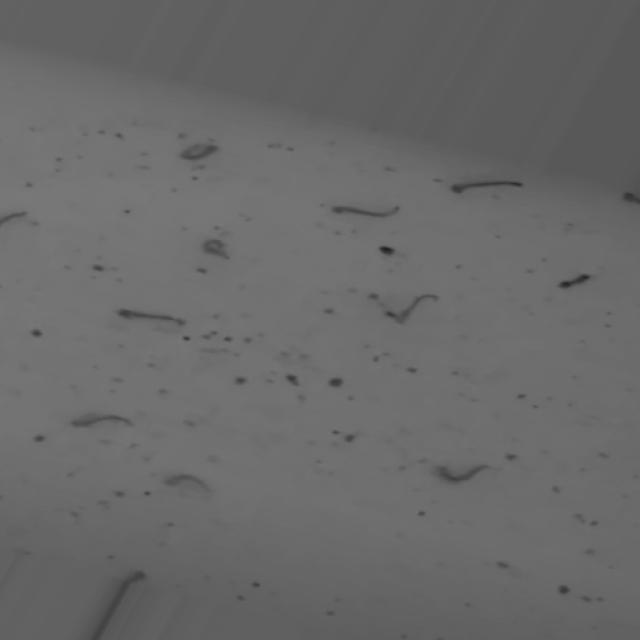larvas: (93, 568, 145, 640), (120, 300, 188, 327), (453, 174, 518, 197), (333, 203, 403, 222), (69, 410, 135, 430), (396, 294, 434, 320), (180, 142, 224, 164), (436, 467, 489, 484), (2, 202, 26, 230), (169, 475, 204, 489), (622, 184, 640, 211), (206, 236, 224, 258), (562, 275, 588, 289)
